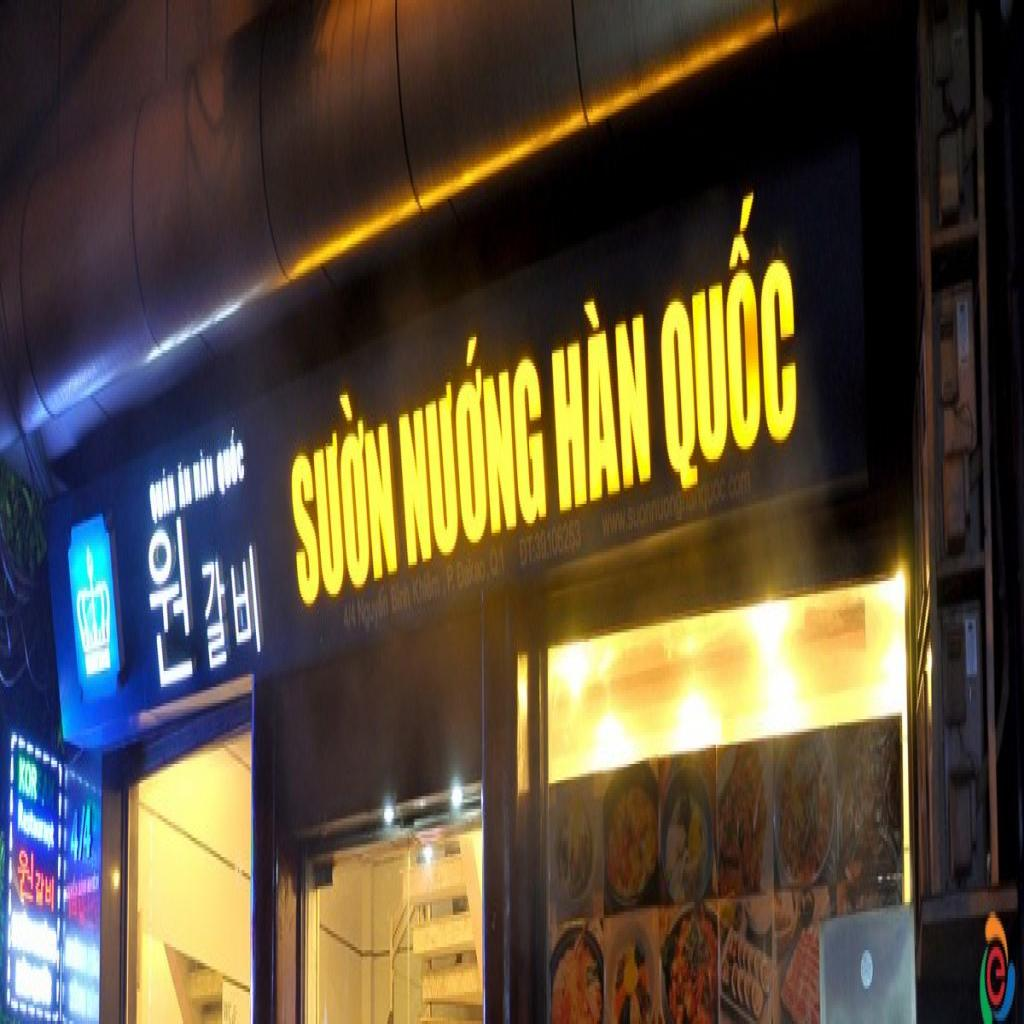text: (655, 176, 800, 498), (394, 308, 549, 575), (287, 372, 399, 616), (548, 279, 653, 517), (601, 491, 684, 549), (700, 469, 753, 520), (215, 424, 246, 504), (445, 549, 491, 600), (535, 517, 583, 565), (357, 581, 391, 642), (148, 462, 178, 530), (68, 799, 93, 867), (191, 443, 216, 507), (411, 565, 442, 613), (18, 754, 39, 806), (177, 459, 194, 514), (488, 540, 507, 584), (391, 578, 412, 616), (519, 533, 537, 571), (342, 597, 357, 639), (17, 796, 25, 835)
